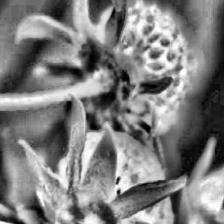Gray Mold: (67, 33, 173, 170)
